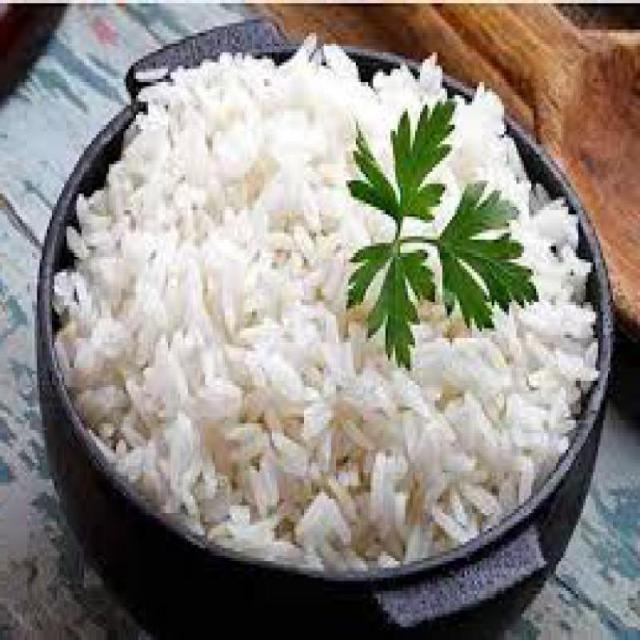nasi_putih: (52, 39, 600, 575)
